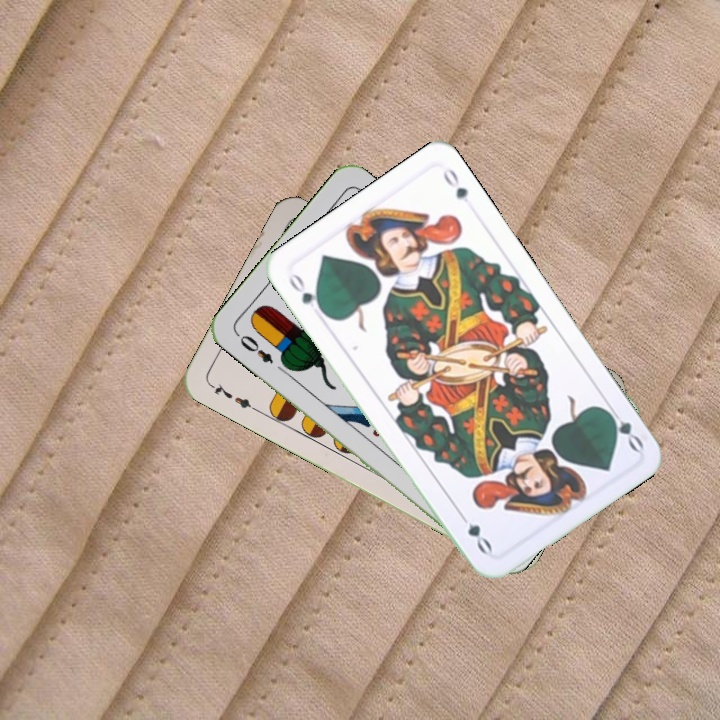E7: (206, 380, 260, 414)
EO: (232, 329, 276, 367)
GO: (600, 401, 646, 454), (284, 268, 328, 317)
